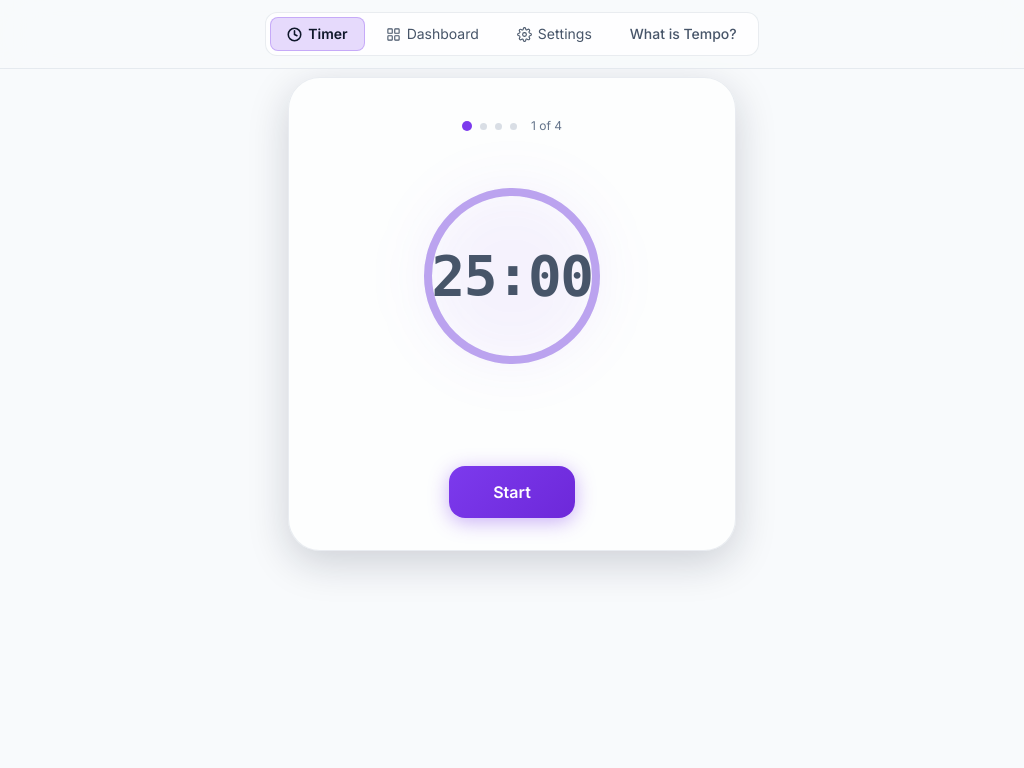
Test case: onboarding flow › nav What is Tempo? opens guide even when hasSeenWelcome is true
Click the button "What is Tempo?" at (683, 34), box [613,17,754,51]
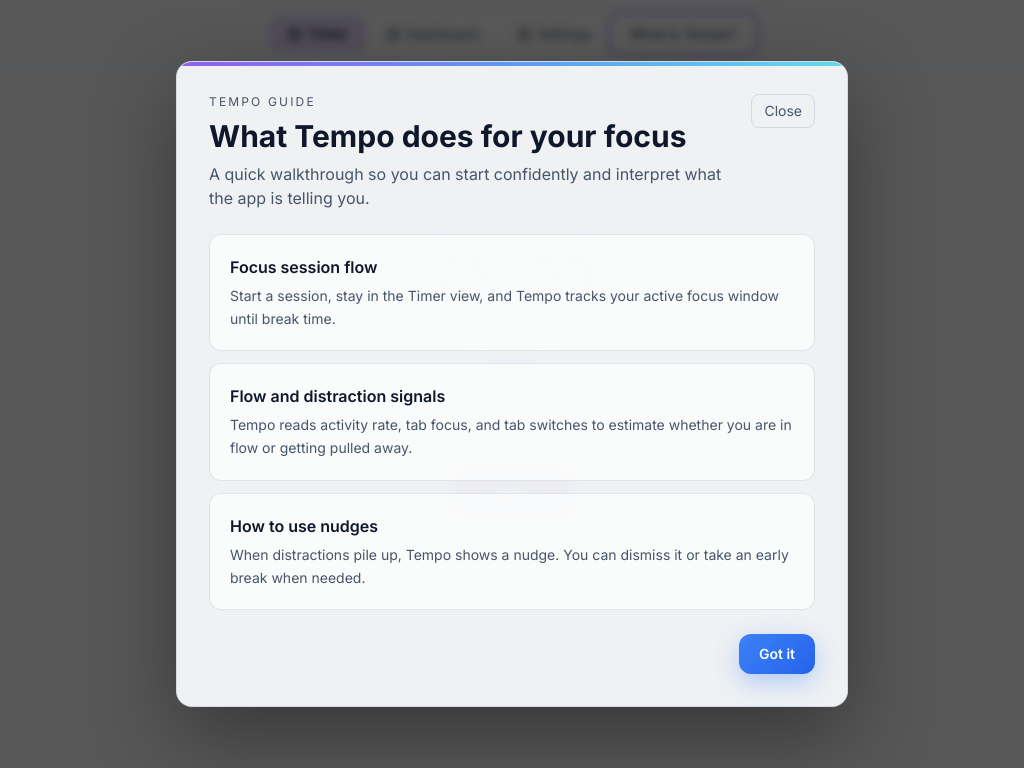
Check: the heading "What Tempo does for your focus" is shown, box [209,118,735,154]
